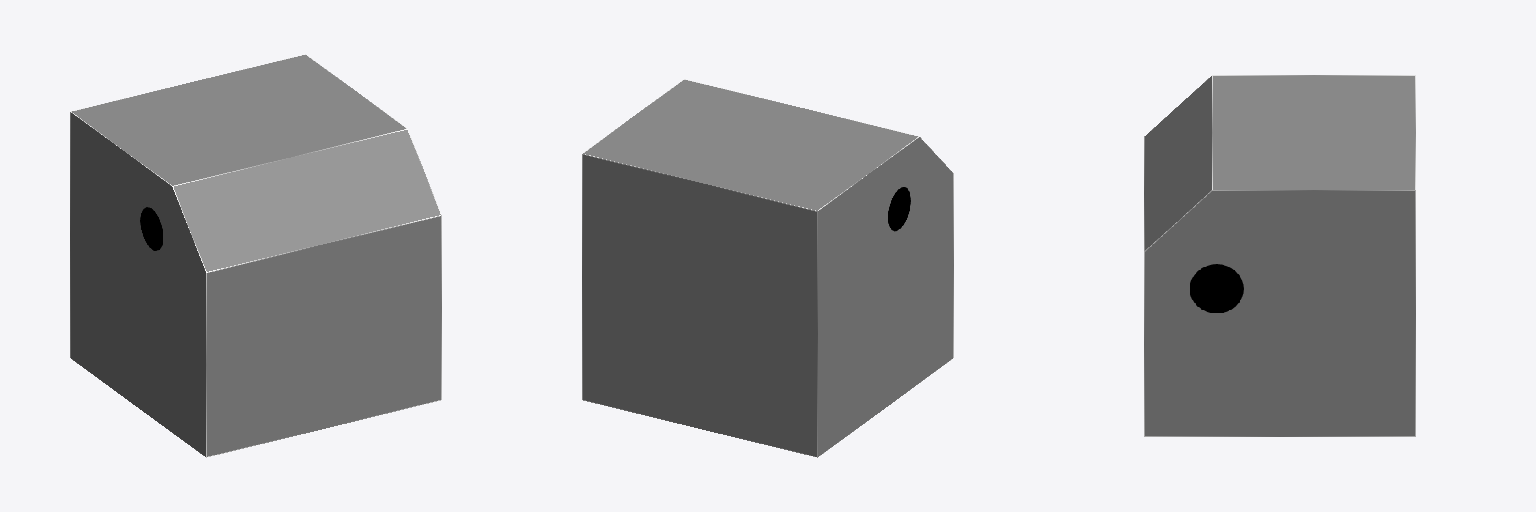
3 views of the same model, side by side, from view 1: azimuth 30°, elevation 25°; view 2: azimuth 150°, elevation 25°; view 3: azimuth 270°, elevation 25° (orthographic).
Visible parts, largest first — view 1: Cube; view 2: Cube; view 3: Cube.
Part boxes in pixels (x1,y1,x2,y2): Cube: (70,54,441,457); Cube: (582,79,953,457); Cube: (1144,75,1415,436).
Size of the model in its own units: 2 by 2 by 2.
1 materials, 1 textured.